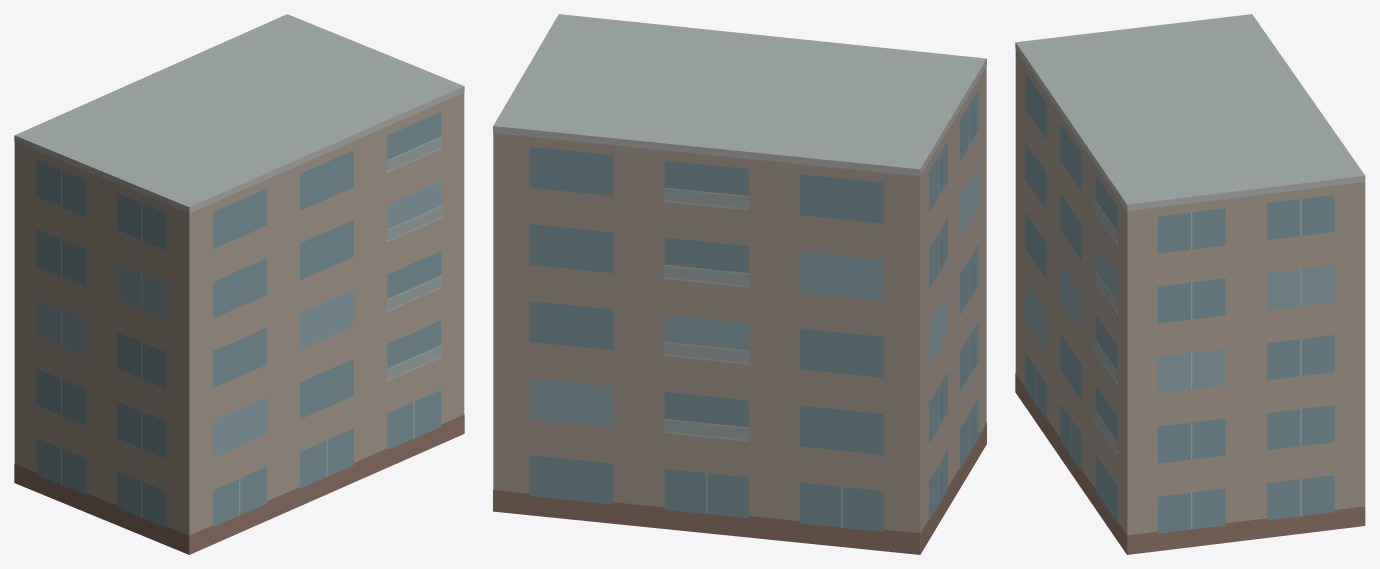
The model's file is survey-upis-33021588.glb.
3 views of the same model, side by side, from view 1: azimuth 30°, elevation 25°; view 2: azimuth 150°, elevation 25°; view 3: azimuth 270°, elevation 25° (orthographic). The views are drawn at different scales.
Parts seen in each view (by area): view 1: survey-upis-33021588.tmp; view 2: survey-upis-33021588.tmp; view 3: survey-upis-33021588.tmp.
Part boxes in pixels (<box>): survey-upis-33021588.tmp: <box>14,14,464,554</box>; survey-upis-33021588.tmp: <box>493,14,986,554</box>; survey-upis-33021588.tmp: <box>1015,14,1365,554</box>.
Size of the model in its own units: 15.78 by 13.5 by 12.23.
